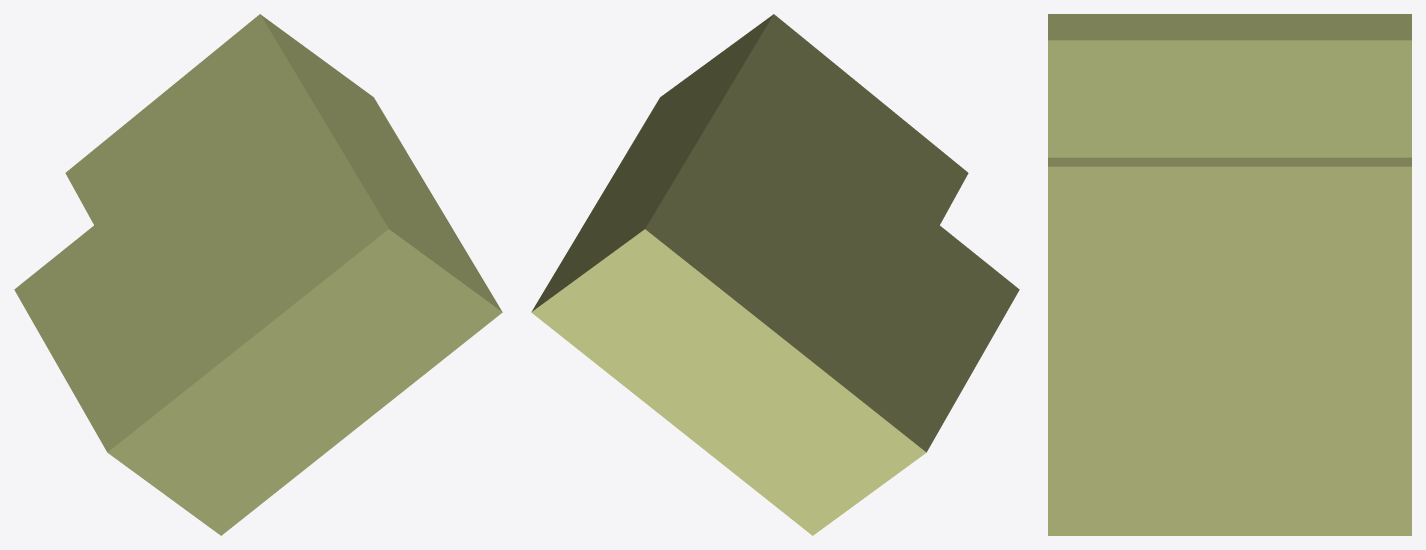
3 renders of one model, left to right at view 1: azimuth 30°, elevation 25°; view 2: azimuth 150°, elevation 25°; view 3: azimuth 270°, elevation 25°, orthographic. The views are drawn at different scales.
Parts seen in each view (by area): view 1: 0_0_1_1_2_2_1_3_2_0; view 2: 0_0_1_1_2_2_1_3_2_0; view 3: 0_0_1_1_2_2_1_3_2_0.
Part boxes in pixels (bbox=[...]): 0_0_1_1_2_2_1_3_2_0: bbox=[14, 14, 502, 535]; 0_0_1_1_2_2_1_3_2_0: bbox=[531, 14, 1019, 535]; 0_0_1_1_2_2_1_3_2_0: bbox=[1048, 14, 1411, 535].
Bounding box in the file's own units: 17.1 × 17.5 × 9.
